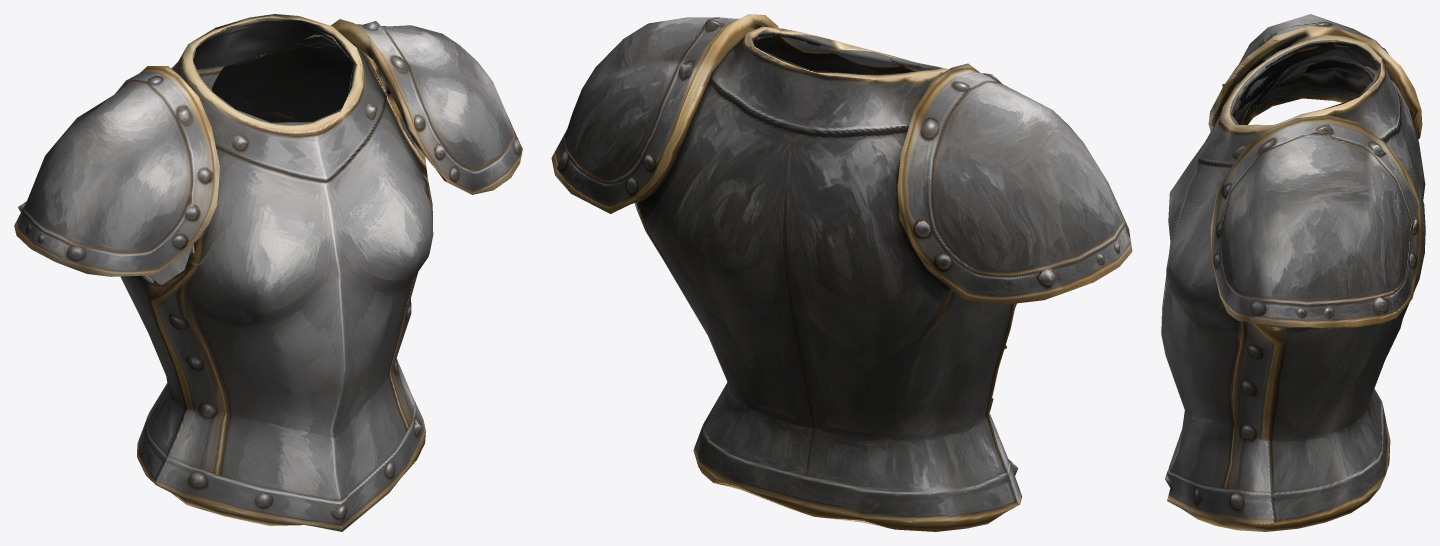
File: Prop_Armor_Plate.fbx
3 renders of one model, left to right at view 1: azimuth 30°, elevation 25°; view 2: azimuth 150°, elevation 25°; view 3: azimuth 270°, elevation 25°, orthographic. The views are drawn at different scales.
Visible parts, largest first — view 1: texture_mapping; view 2: texture_mapping; view 3: texture_mapping.
Part boxes in pixels (x1=…): texture_mapping: x1=14, y1=14, x2=522, y2=531; texture_mapping: x1=551, y1=14, x2=1132, y2=531; texture_mapping: x1=1161, y1=14, x2=1425, y2=531.
Size of the model in its own units: 1 by 0.4755 by 0.8685.
Materials: 1 (1 with a texture image).
